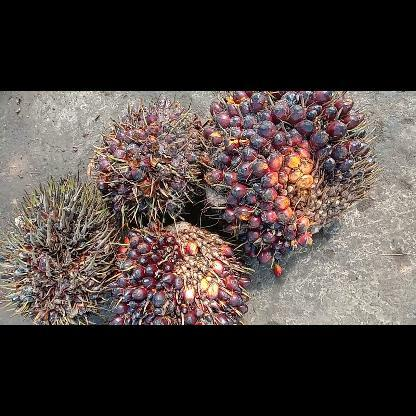Kurang masak: (110, 220, 252, 324), (92, 100, 209, 223)
TBS abnormal: (0, 174, 114, 324)
TBS masak: (196, 91, 372, 275)
